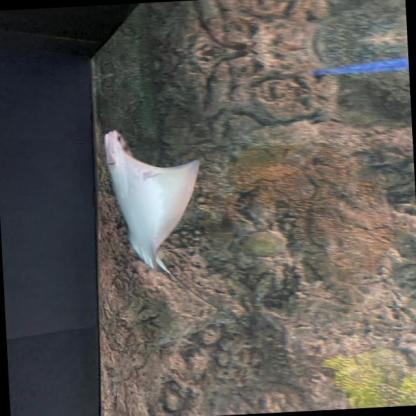stingray: (102, 126, 200, 273)
